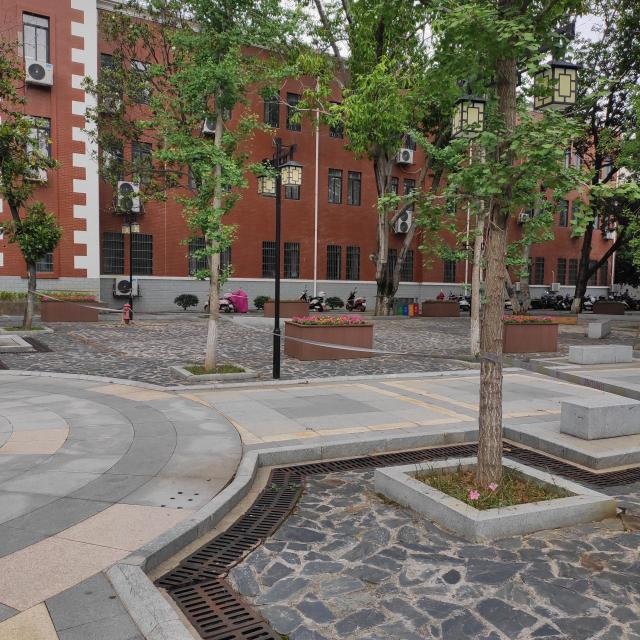ash bin: (392, 296, 420, 316)
fire_hydrant: (122, 302, 131, 325)
motorbike: (298, 284, 327, 312), (203, 288, 234, 313), (227, 286, 248, 312), (536, 290, 563, 310), (446, 290, 470, 311), (346, 287, 366, 312), (436, 289, 458, 301), (562, 292, 572, 310), (503, 299, 512, 310)
pole: (270, 147, 283, 380), (128, 209, 134, 320)
